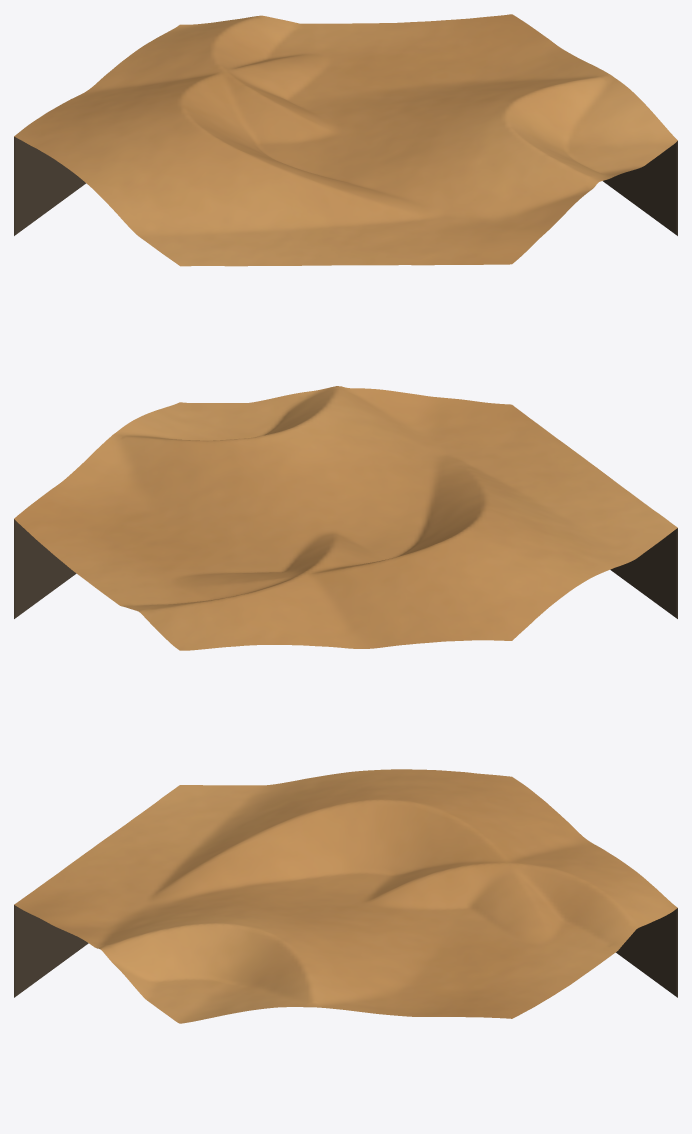
3 views of the same model, one above another, from view 1: azimuth 30°, elevation 25°; view 2: azimuth 150°, elevation 25°; view 3: azimuth 270°, elevation 25° (orthographic).
Visible parts, largest first — view 1: terrain, hex_side_cut; view 2: terrain, hex_side_cut; view 3: terrain, hex_side_cut.
Boxes of the visible parts, x1,y1,x2,y2 form: terrain: (14,14,677,266); hex_side_cut: (14,136,677,235); terrain: (14,386,677,650); hex_side_cut: (14,519,677,618); terrain: (14,769,677,1023); hex_side_cut: (14,905,677,997).
Size of the model in its own units: 4330 by 1103 by 5000.
